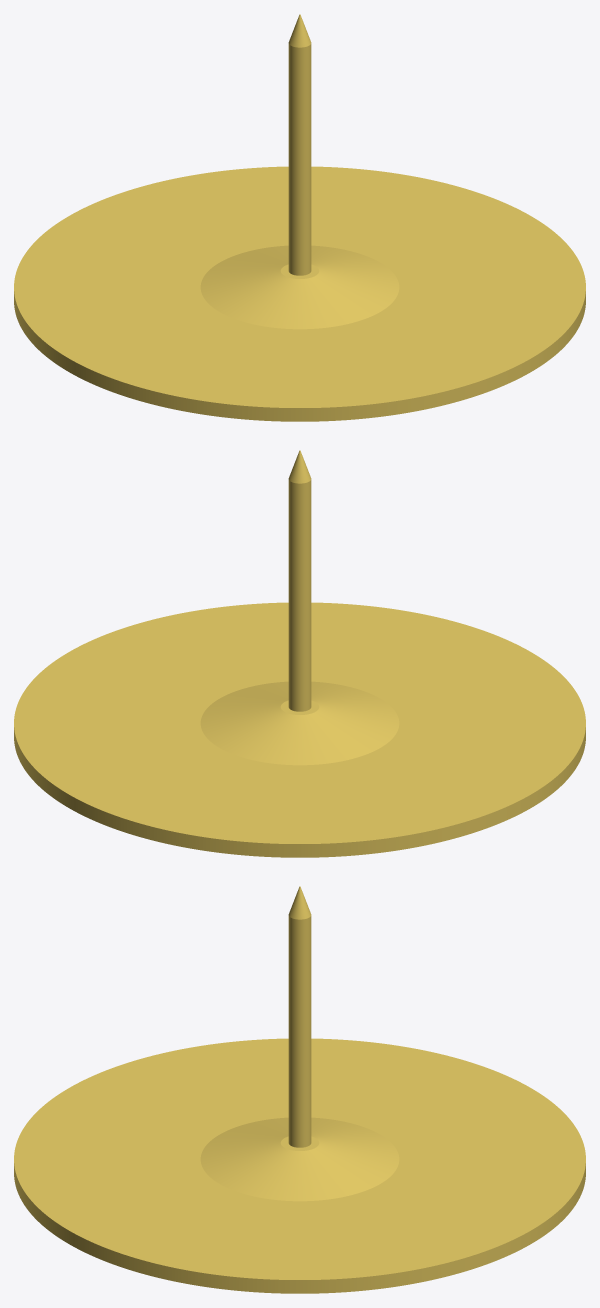
3 renders of one model, top to bottom at view 1: azimuth 30°, elevation 25°; view 2: azimuth 150°, elevation 25°; view 3: azimuth 270°, elevation 25°, orthographic.
Parts seen in each view (by area): view 1: 円柱, 円柱.001, 円柱.002; view 2: 円柱, 円柱.001, 円柱.002; view 3: 円柱, 円柱.001, 円柱.002.
Part boxes in pixels (x1,y1,x2,y2): 円柱: (14, 166, 585, 421); 円柱.001: (200, 245, 399, 329); 円柱.002: (288, 14, 311, 275); 円柱: (14, 602, 585, 857); 円柱.001: (200, 681, 399, 765); 円柱.002: (288, 450, 311, 711); 円柱: (14, 1038, 585, 1293); 円柱.001: (200, 1117, 399, 1201); 円柱.002: (288, 886, 311, 1147).
Bounding box in the file's own units: 200 × 111 × 200.
